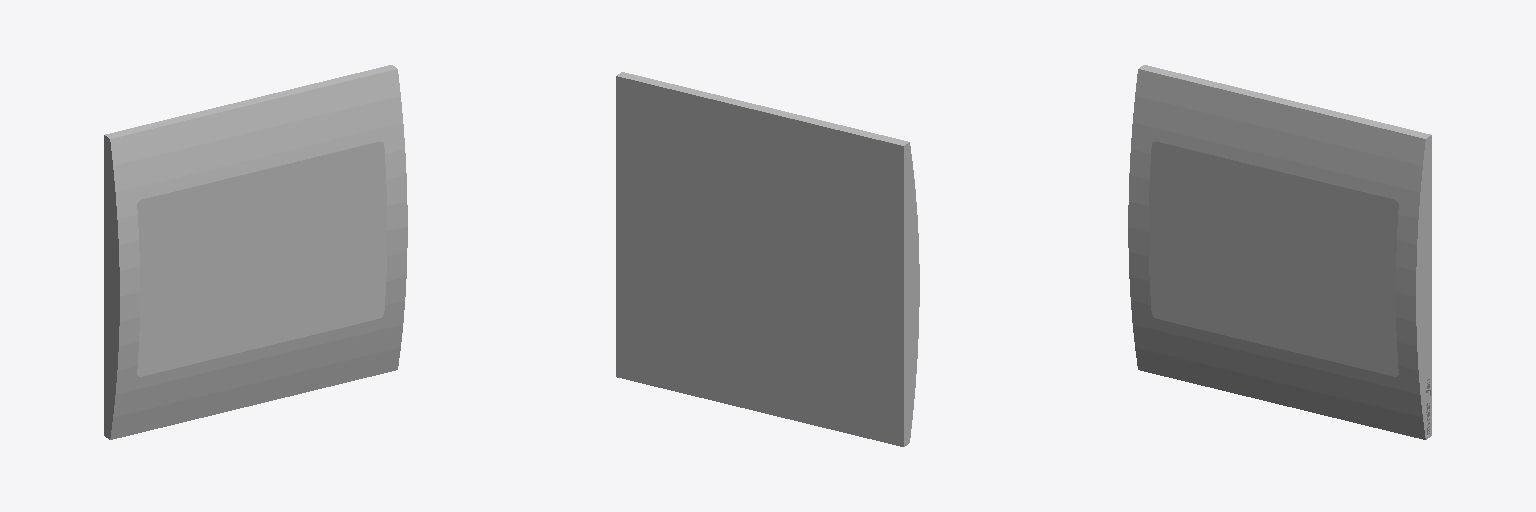
Rendered from original-3.obj.
3 views of the same model, side by side, from view 1: azimuth 30°, elevation 25°; view 2: azimuth 150°, elevation 25°; view 3: azimuth 330°, elevation 25° (orthographic).
Parts seen in each view (by area): view 1: #ID16; view 2: #ID16; view 3: #ID16.
Part boxes in pixels (x1,y1,x2,y2): #ID16: (104, 65, 407, 439); #ID16: (616, 72, 919, 446); #ID16: (1128, 65, 1431, 439).
Size of the model in its own units: 1.44 by 1.44 by 0.1354.